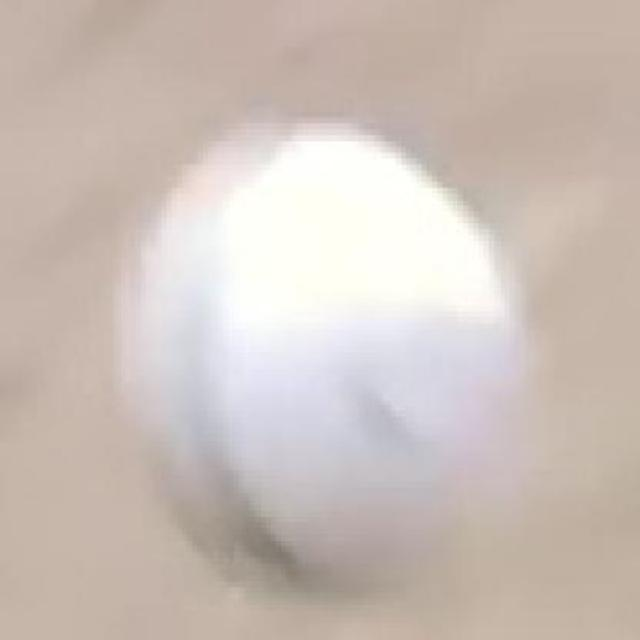Cricket ball: (111, 113, 542, 609)
